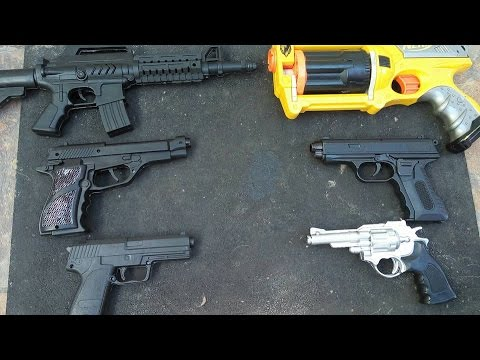Arma Falsa: (254, 44, 480, 153)
Arma Real: (1, 46, 263, 133), (39, 134, 194, 230), (308, 129, 455, 224), (305, 219, 466, 305), (61, 230, 199, 319)
